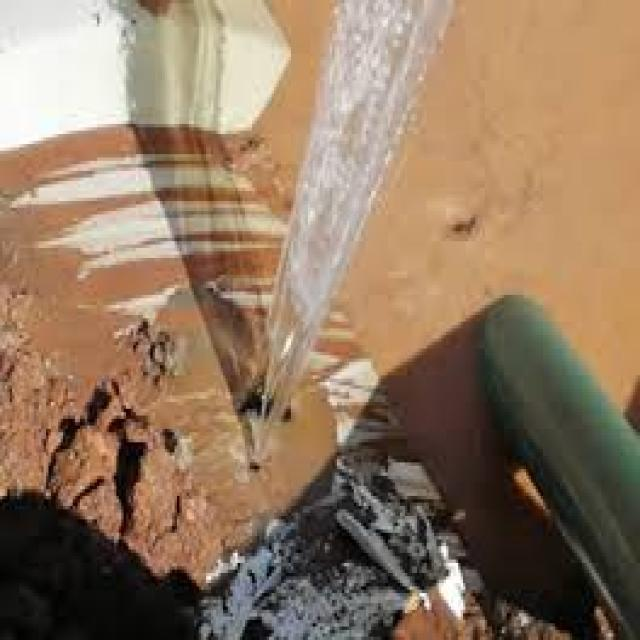water_leak: (230, 0, 456, 469)
